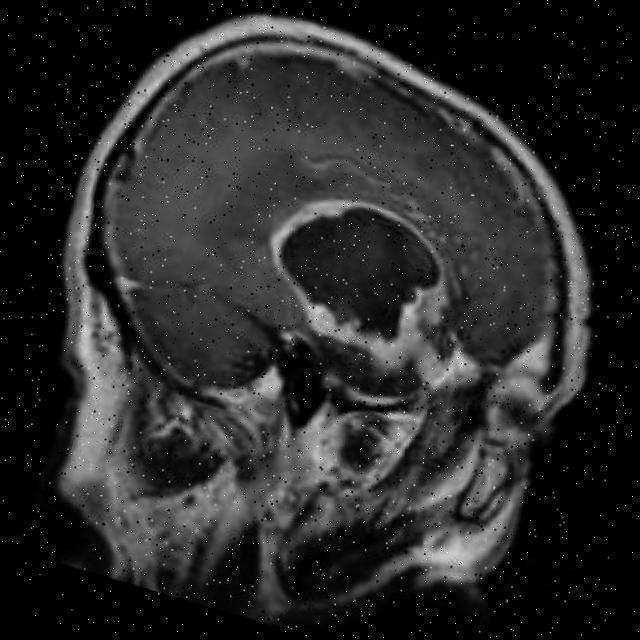EMCI: (266, 208, 446, 382)
